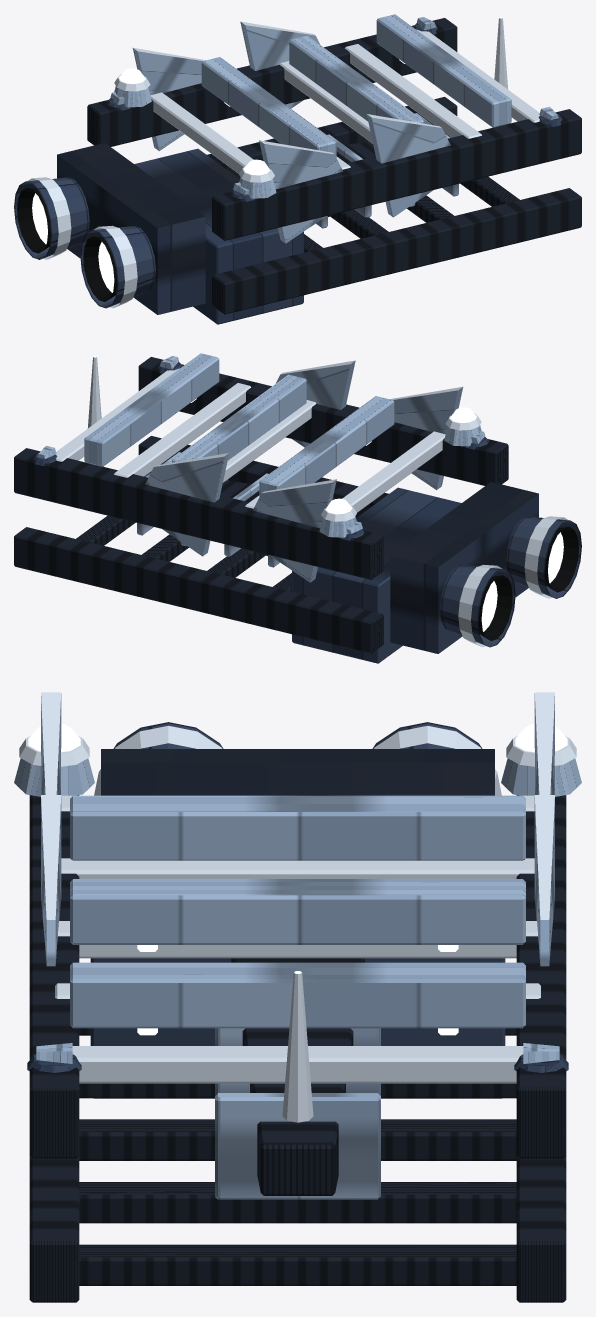
File: mobile_yard.glb
3 renders of one model, top to bottom at view 1: azimuth 30°, elevation 25°; view 2: azimuth 150°, elevation 25°; view 3: azimuth 270°, elevation 25°, orthographic. The views are drawn at different scales.
Visible parts, largest first — view 1: hull_body, engine_block, shield_pylons, weapon_turrets, sensor_tower; view 2: hull_body, engine_block, shield_pylons, weapon_turrets, sensor_tower; view 3: hull_body, engine_block, shield_pylons, sensor_tower, weapon_turrets.
Boxes of the visible parts, <box> form: hull_body: <box>87,14,581,324</box>; engine_block: <box>14,143,205,314</box>; shield_pylons: <box>114,68,276,198</box>; weapon_turrets: <box>107,17,562,201</box>; sensor_tower: <box>494,17,508,89</box>; hull_body: <box>14,353,508,663</box>; engine_block: <box>390,482,581,653</box>; shield_pylons: <box>319,407,481,537</box>; weapon_turrets: <box>33,356,488,540</box>; sensor_tower: <box>87,356,101,428</box>; hull_body: <box>29,692,566,1302</box>; engine_block: <box>94,722,501,795</box>; shield_pylons: <box>14,723,581,796</box>; sensor_tower: <box>282,971,313,1122</box>; weapon_turrets: <box>27,1043,568,1072</box>.
Bounding box in the file's own units: 75 × 29.87 × 42.12.
1 material, 1 textured.
